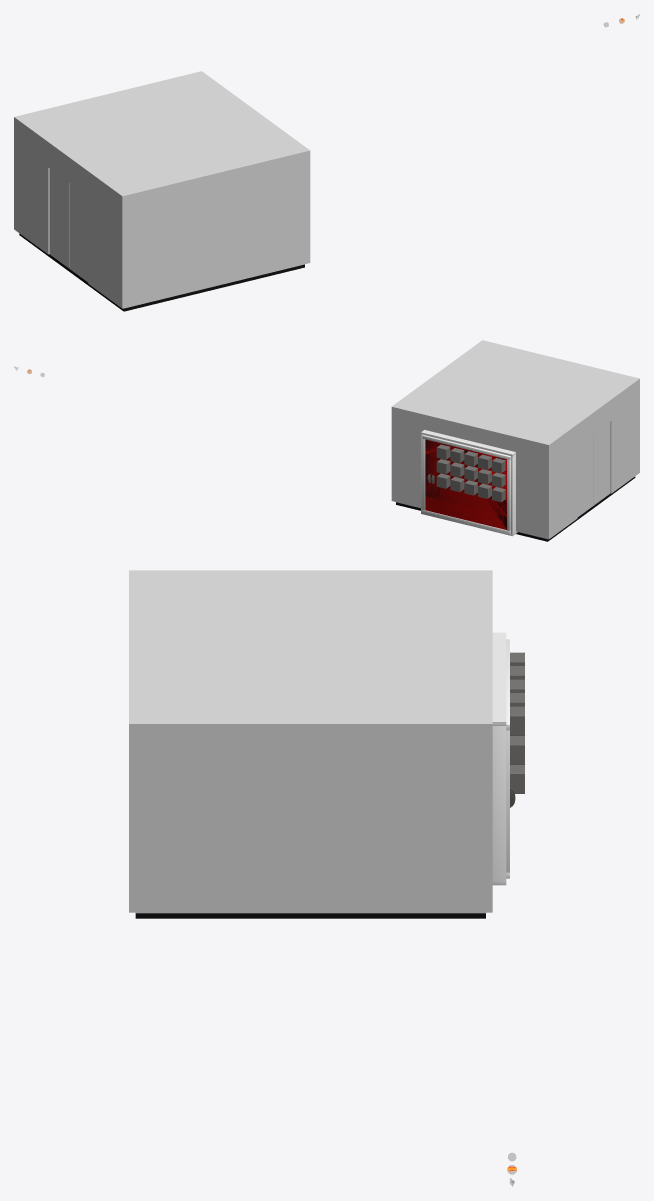
The model's file is ELV_Cabin_5x3.fbx.
3 views of the same model, one above another, from view 1: azimuth 30°, elevation 25°; view 2: azimuth 150°, elevation 25°; view 3: azimuth 270°, elevation 25° (orthographic). The views are drawn at different scales.
Visible parts, largest first — view 1: SM_Cab_Ceiling, SM_Cab_Wall_Front, SM_Cab_Wall_Left, SM_Door_R, SM_Door_L, SM_Cab_FloorVoid; view 2: SM_Cab_Ceiling, SM_Cab_Wall_Back, SM_Cab_Wall_Left, SM_Harness_Fill, TEST_H_ChamberArray, SM_Harness_Frame, TEST_H_PanelRecess, SM_Door_L, SM_Door_R, SM_Cab_FloorVoid; view 3: SM_Cab_Wall_Right, SM_Cab_Ceiling, TEST_H_PanelRecess, TEST_H_ChamberArray, SM_Cab_FloorVoid, SM_Cab_Wall_Back, SM_Cab_Wall_Front, SM_Harness_Frame.
Part boxes in pixels (x1,y1,x2,y2): SM_Cab_Ceiling: [14, 71, 310, 199]; SM_Cab_Wall_Front: [120, 154, 310, 308]; SM_Cab_Wall_Left: [16, 122, 120, 306]; SM_Door_R: [49, 169, 69, 267]; SM_Door_L: [69, 183, 88, 280]; SM_Cab_FloorVoid: [19, 233, 304, 311]; SM_Cab_Ceiling: [391, 340, 639, 447]; SM_Cab_Wall_Back: [391, 410, 550, 539]; SM_Cab_Wall_Left: [550, 383, 638, 537]; SM_Harness_Fill: [425, 439, 506, 529]; TEST_H_ChamberArray: [436, 444, 505, 502]; SM_Harness_Frame: [422, 435, 510, 533]; TEST_H_PanelRecess: [421, 430, 517, 536]; SM_Door_L: [593, 422, 610, 504]; SM_Door_R: [577, 434, 593, 515]; SM_Cab_FloorVoid: [396, 476, 635, 541]; SM_Cab_Wall_Right: [135, 730, 485, 912]; SM_Cab_Ceiling: [129, 570, 492, 729]; TEST_H_PanelRecess: [492, 632, 506, 885]; TEST_H_ChamberArray: [510, 652, 524, 793]; SM_Cab_FloorVoid: [135, 913, 485, 918]; SM_Cab_Wall_Back: [486, 730, 492, 912]; SM_Cab_Wall_Front: [129, 730, 135, 912]; SM_Harness_Frame: [506, 639, 509, 878].
Bounding box in the file's own units: 18.24 × 3.25 × 5.9.
